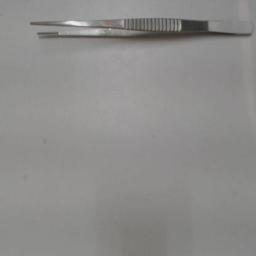DeBakey Dissector: (8, 12, 256, 66)
